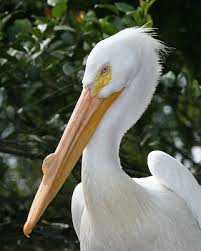pelican: (24, 28, 200, 251)
